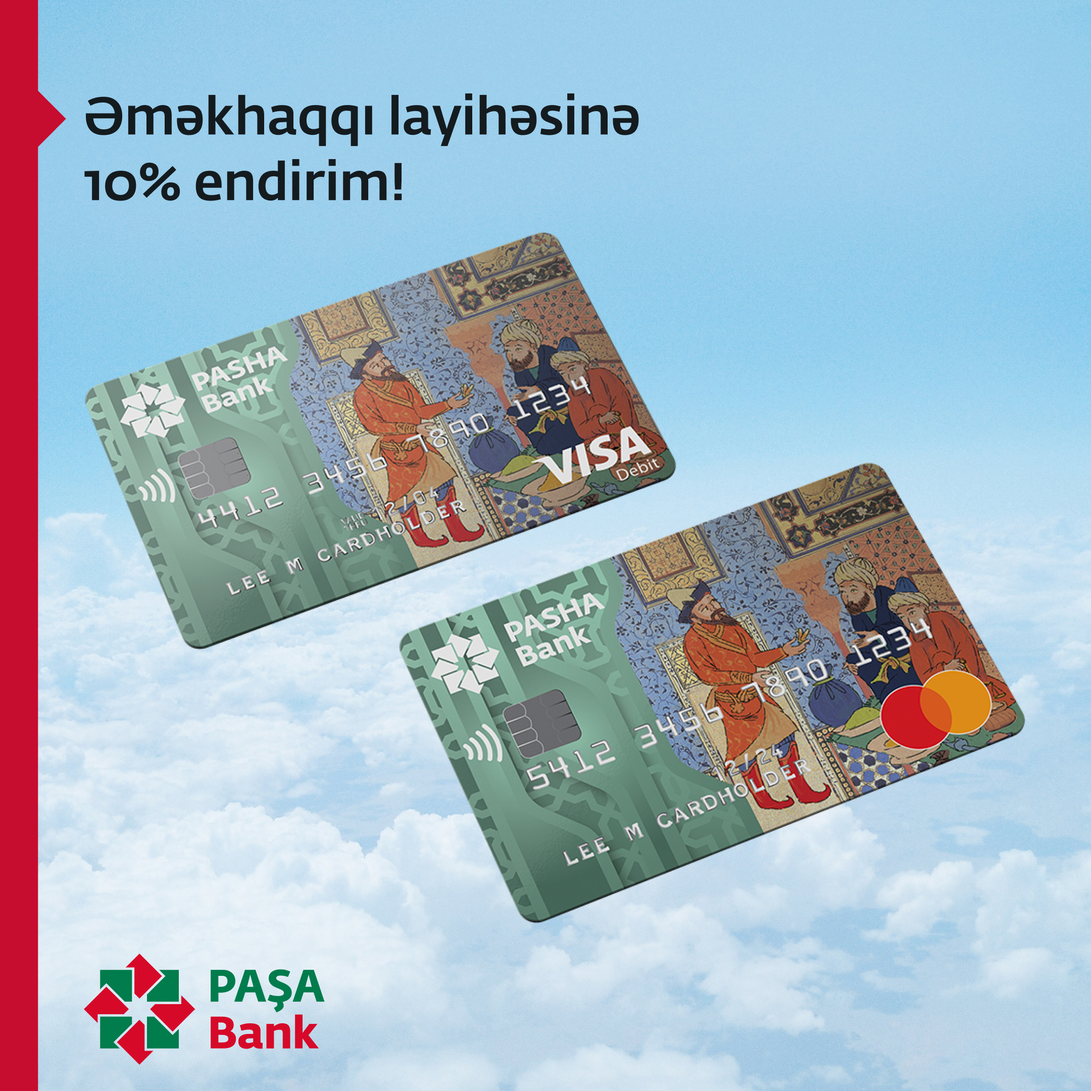Pasha Bank: (83, 952, 198, 1066), (428, 630, 501, 696), (118, 379, 188, 441)
